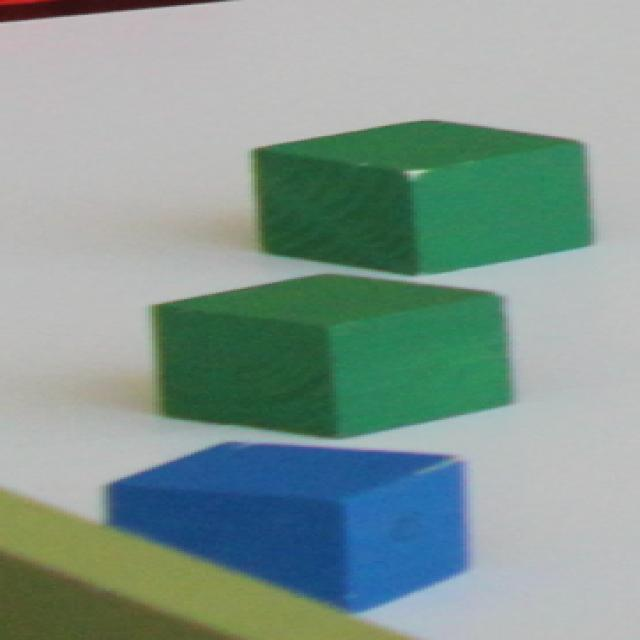bluecube: (111, 442, 472, 614)
green cube: (155, 269, 518, 433), (255, 118, 599, 276)
